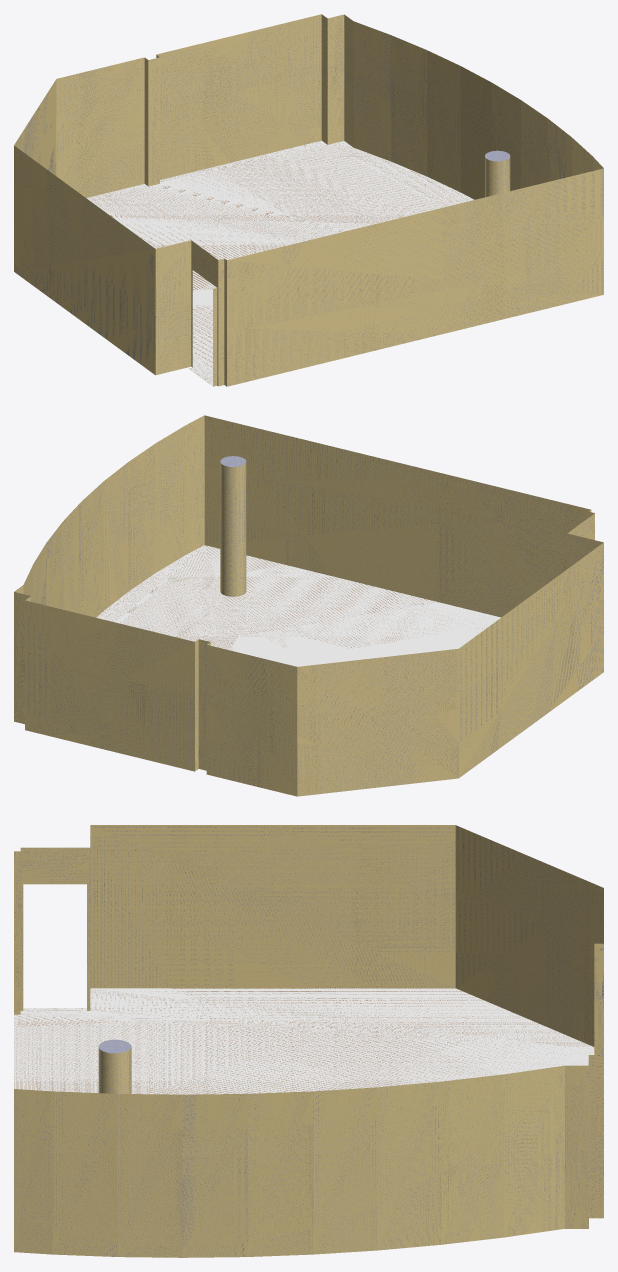
Rendered from LAB006.obj.
3 renders of one model, top to bottom at view 1: azimuth 30°, elevation 25°; view 2: azimuth 150°, elevation 25°; view 3: azimuth 270°, elevation 25°, orthographic. The views are drawn at different scales.
Parts seen in each view (by area): view 1: Mesh4 LAB006 Model, Mesh1 Group1 LAB006 Model; view 2: Mesh4 LAB006 Model, Mesh1 Group1 LAB006 Model; view 3: Mesh4 LAB006 Model, Mesh1 Group1 LAB006 Model.
Part boxes in pixels (<box>): Mesh4 LAB006 Model: <box>14,14,603,386</box>; Mesh1 Group1 LAB006 Model: <box>485,150,510,197</box>; Mesh4 LAB006 Model: <box>14,415,603,796</box>; Mesh1 Group1 LAB006 Model: <box>220,456,246,596</box>; Mesh4 LAB006 Model: <box>14,825,603,1257</box>; Mesh1 Group1 LAB006 Model: <box>98,1039,131,1093</box>.
Size of the model in its own units: 10.54 by 2.98 by 9.75.
5 materials, 2 textured.
